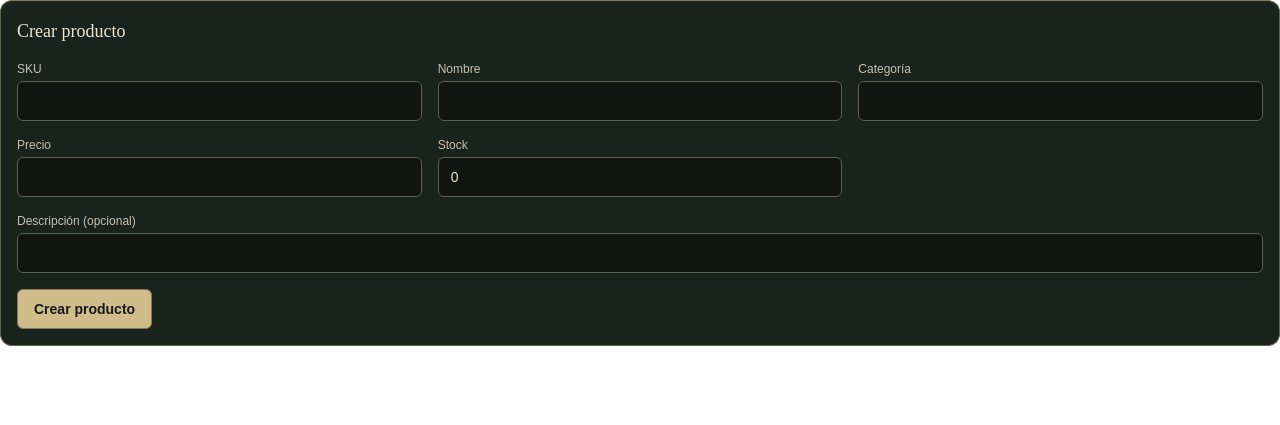
Test case: sends valid values unchanged to the server action
In the field labelled "SKU": (219, 101) [17, 81, 422, 121], type "  SKU-CLIENT-1 "
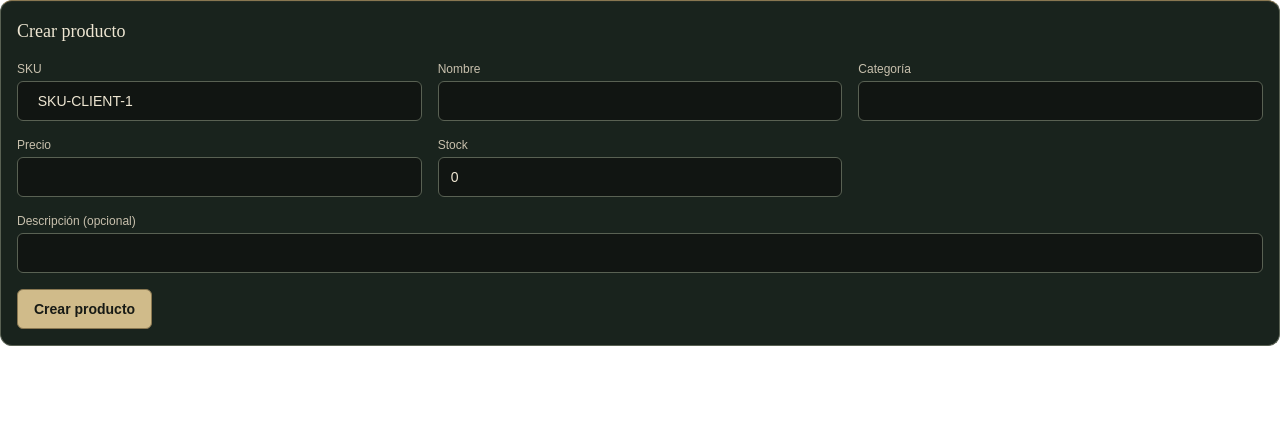
In the field labelled "Nombre": (640, 101) [438, 81, 842, 121], type "Producto"
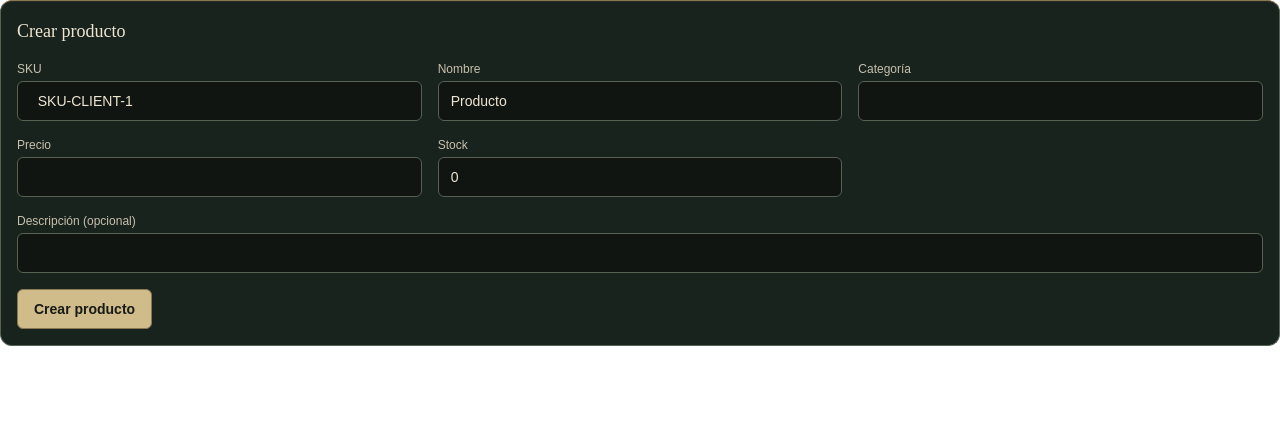
In the field labelled "Categoría": (1061, 101) [858, 81, 1263, 121], type "Papelería"
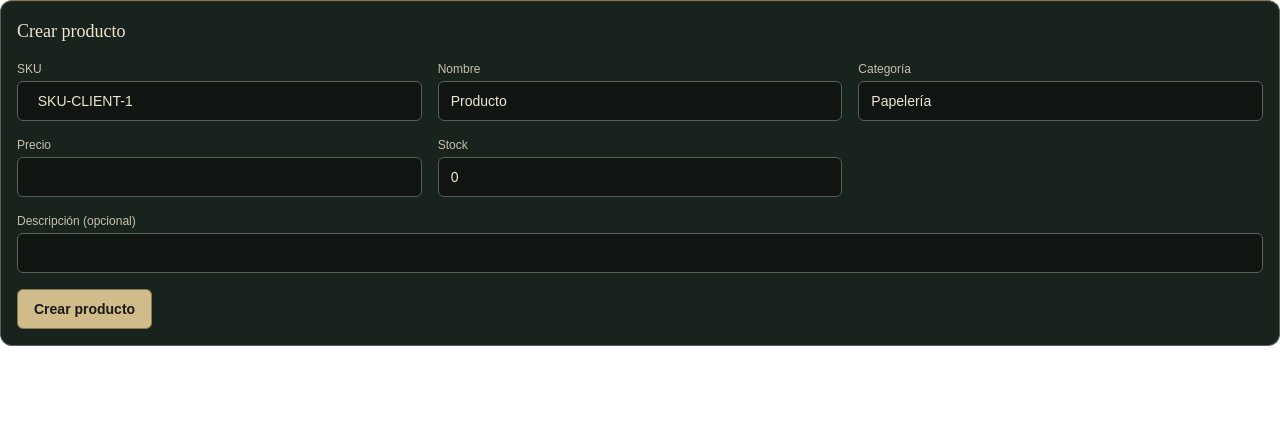
In the field labelled "Precio": (219, 177) [17, 157, 422, 197], type "10.50"
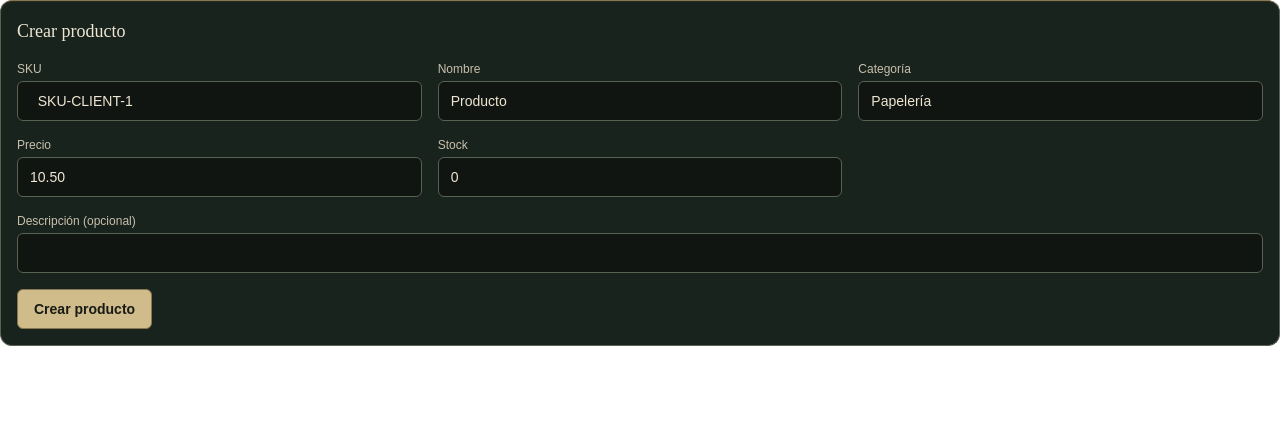
Replace the text in the field labelled "Stock" with "3": (640, 177) [438, 157, 842, 197]
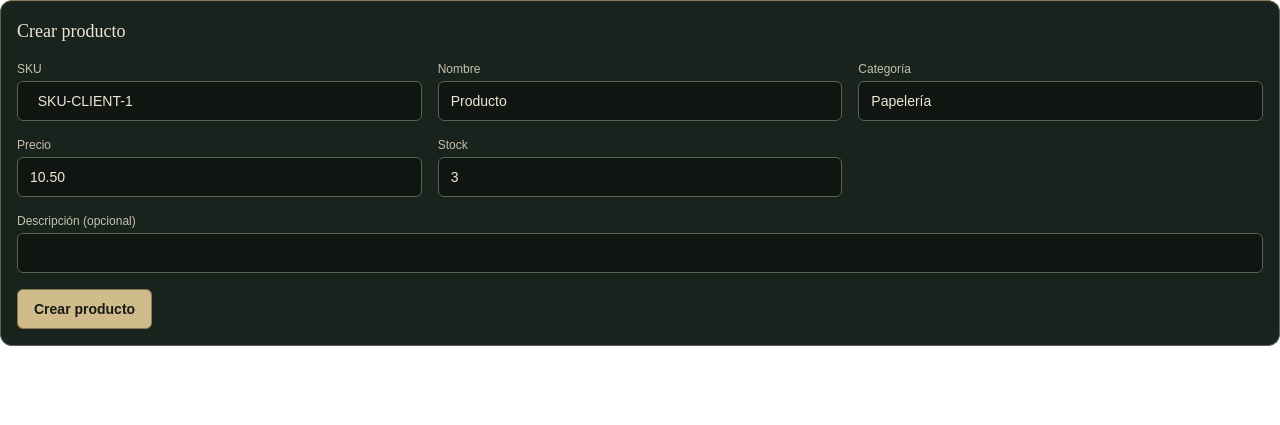
Submit the form
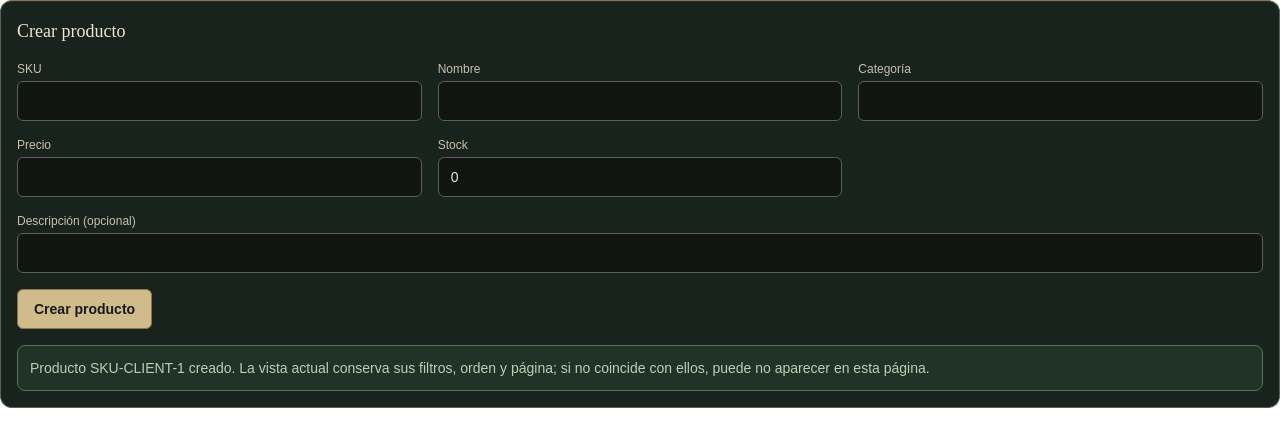
Result: the message shows "Producto SKU-CLIENT-1 creado" at [17, 345, 1263, 391]
